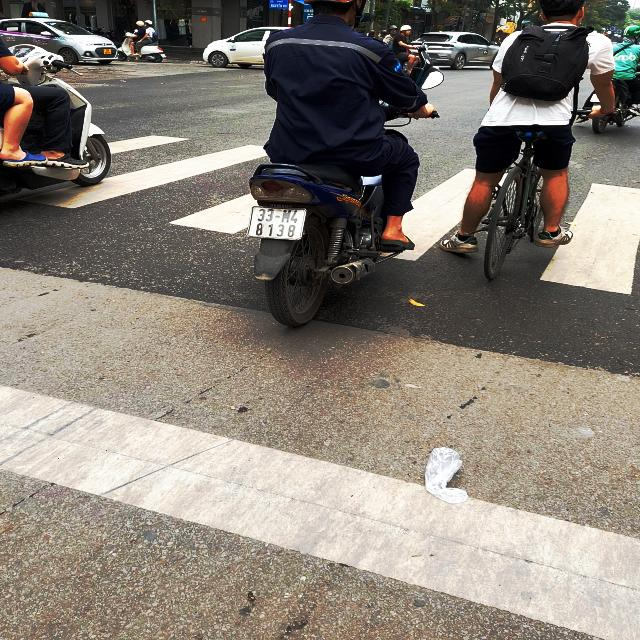license_plate: (250, 206, 309, 242)
